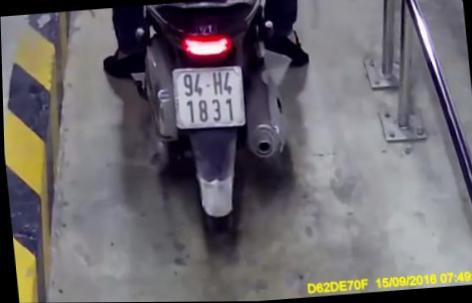LP: (166, 61, 249, 133)
